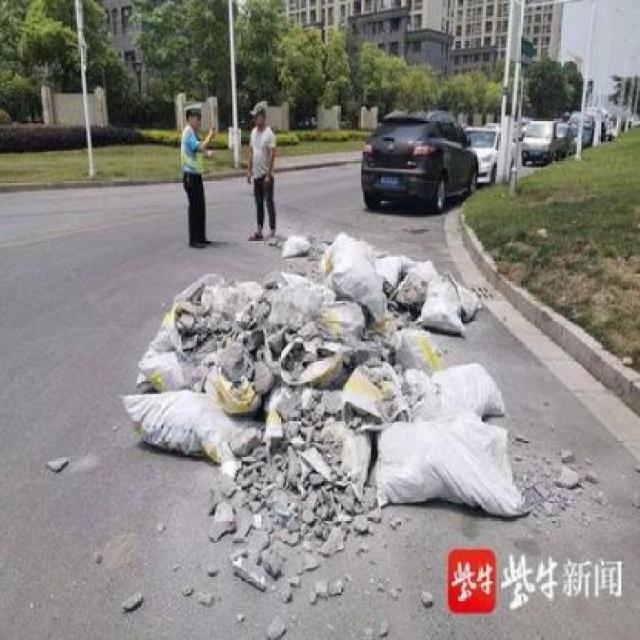garbage: (142, 245, 496, 536)
